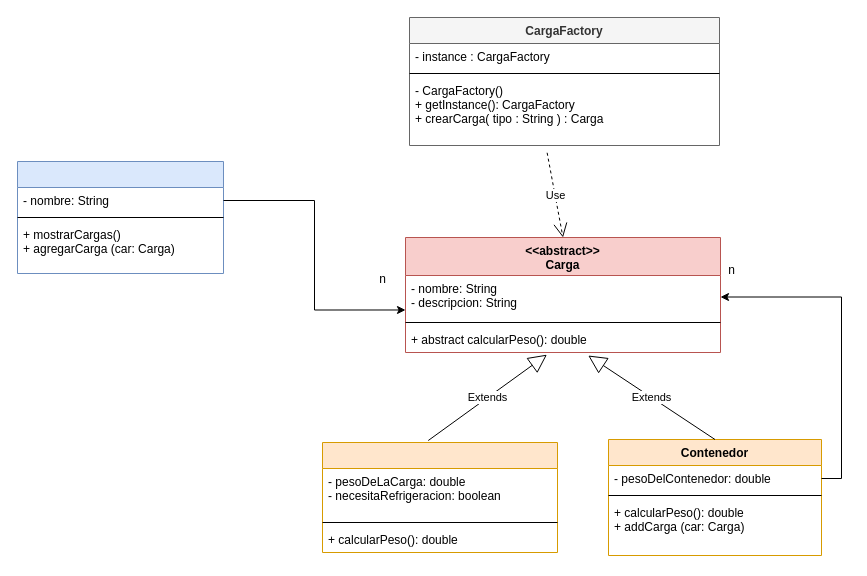
Image size: 867x576. Some labels were removed from this diagram. Each missing label, with the box of its shape:
Barco: (16, 160, 224, 274)
CargaSimple: (322, 442, 558, 552)
